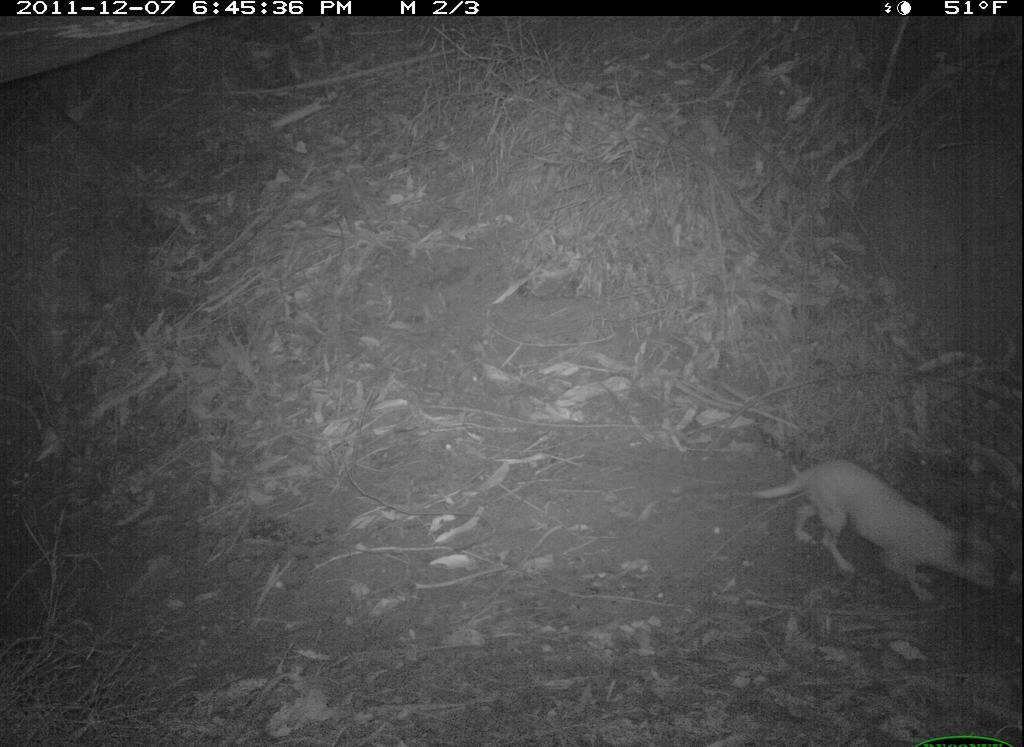dog: (762, 460, 1007, 614)
